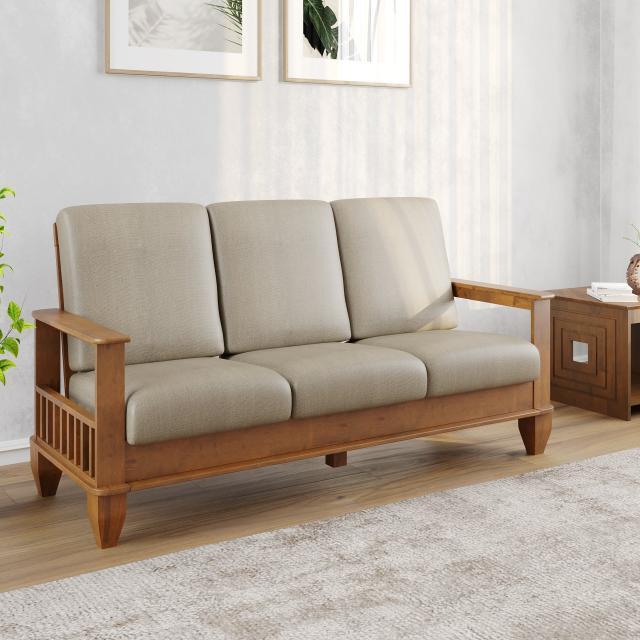sofa: (28, 195, 556, 550)
